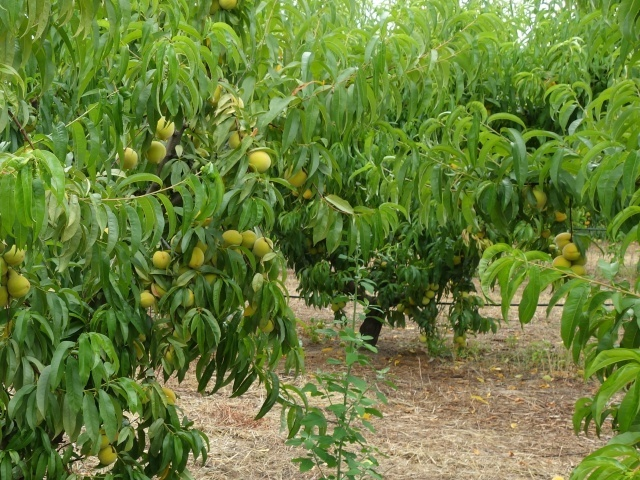peach: (140, 139, 169, 168), (246, 148, 275, 175), (285, 159, 310, 190), (6, 272, 32, 300), (114, 146, 140, 174), (3, 242, 28, 268), (219, 226, 244, 252), (154, 113, 178, 139), (251, 236, 276, 260), (98, 442, 120, 468), (553, 228, 576, 252), (151, 246, 173, 271), (135, 287, 156, 311), (185, 245, 206, 269), (238, 227, 259, 251), (228, 128, 249, 151), (95, 429, 114, 452), (258, 315, 278, 336), (571, 262, 590, 283), (551, 254, 571, 273), (562, 243, 580, 261)
